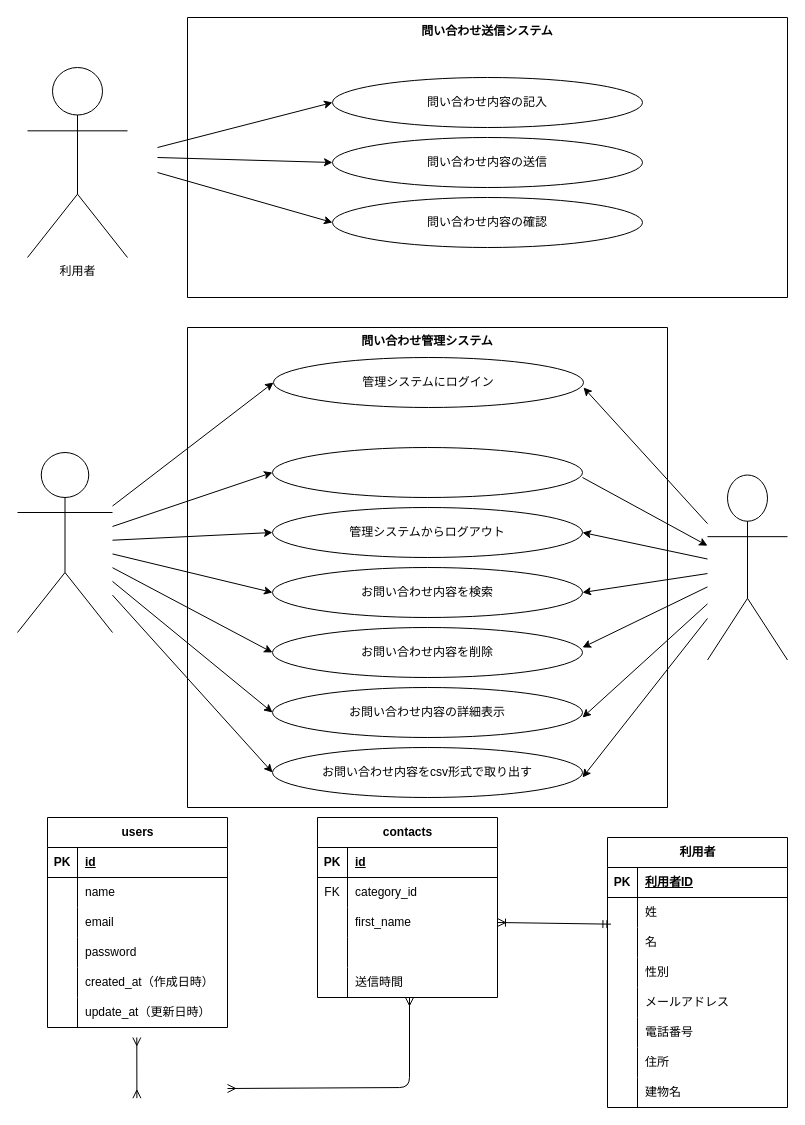
The diagram is 805 pixels wide and 1125 high, and some of its shapes have lost their labels. The shapes that lost their labels are listed below. From the top down, each one's centre as x and y in pixels, then its label:
At (x=427, y=472): "新規ユーザーの作成・登録".
At (x=64, y=542): "管理者".
At (x=747, y=567): "新規管理者".
